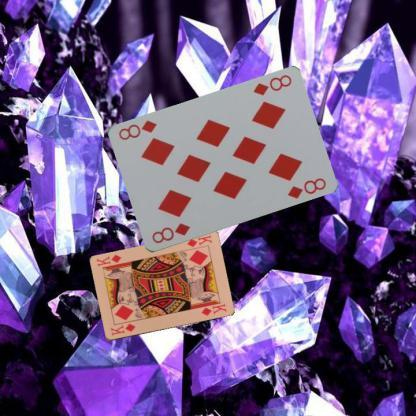8d: (250, 72, 293, 97), (149, 221, 191, 245)
Kd: (184, 232, 214, 249), (108, 321, 136, 337)
